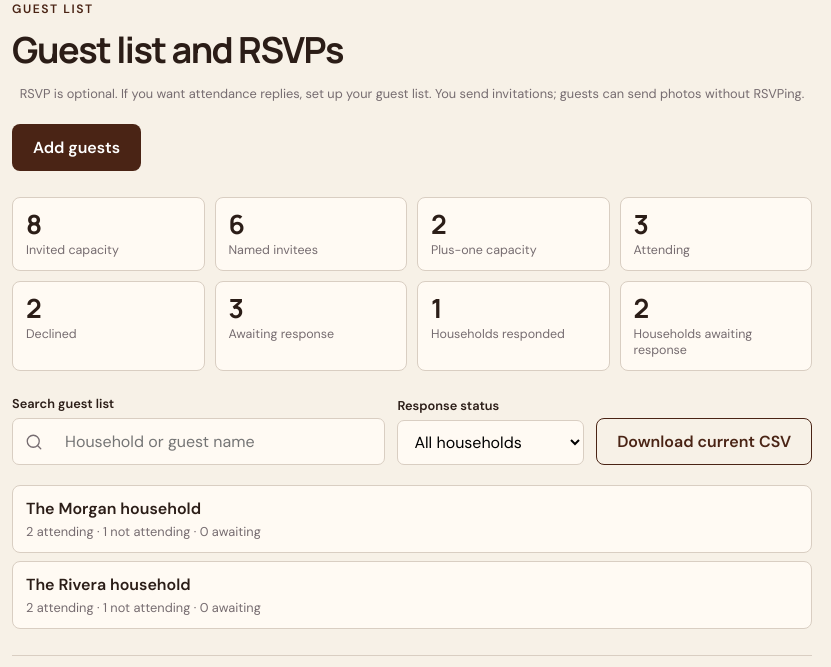
it: manager RSVP panel › ignores a conflict refresh after the household is reselected
This screenshot has width=831, height=667.
Click the button "The Morgan household". click: click(114, 509)
box: [12, 485, 812, 553]
(page scrolled)
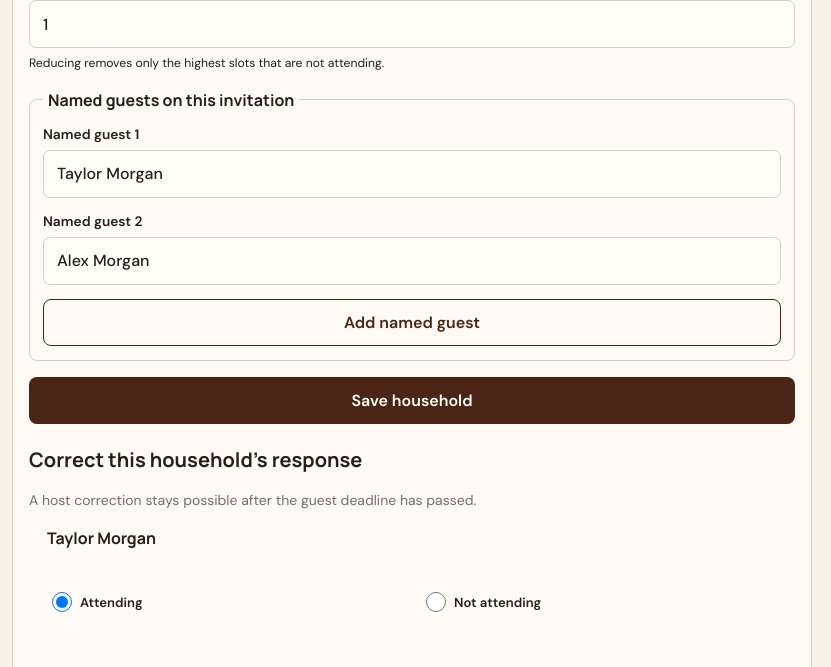
Click the button "Save household". click: click(412, 400)
box: [29, 377, 795, 424]
(page scrolled)
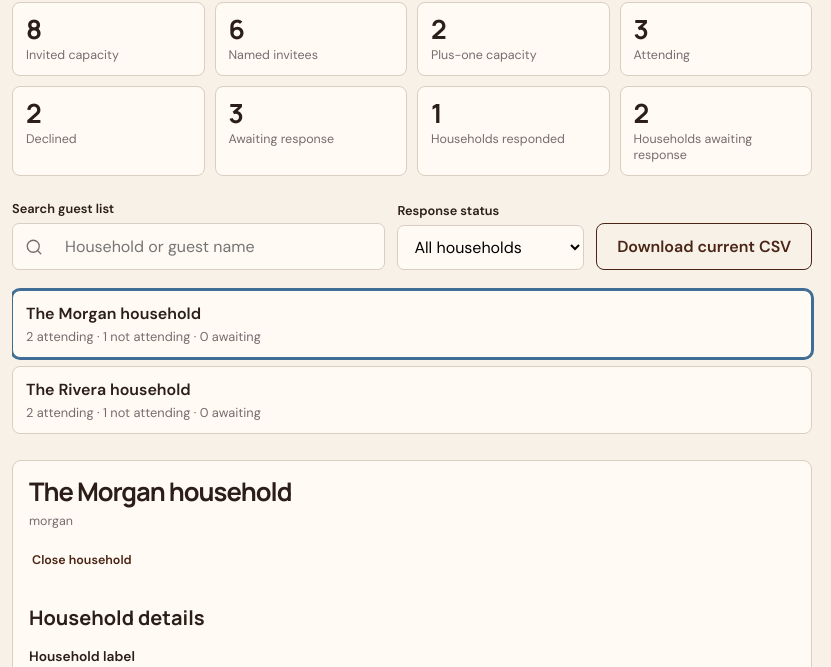
Click the button "The Rivera household". click: click(108, 390)
box: [12, 366, 812, 434]
(page scrolled)
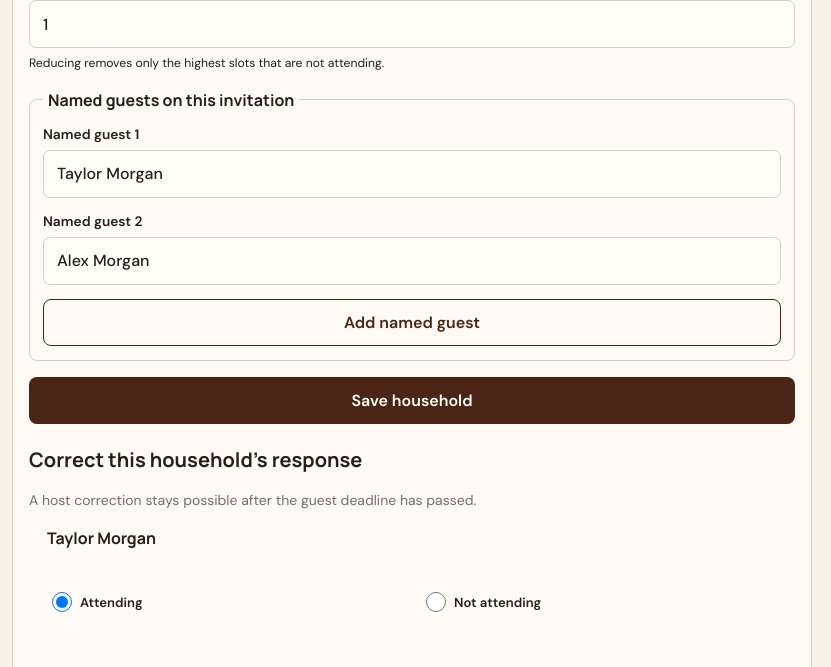
Result: the button "Save household" is enabled at [29, 377, 795, 424]
